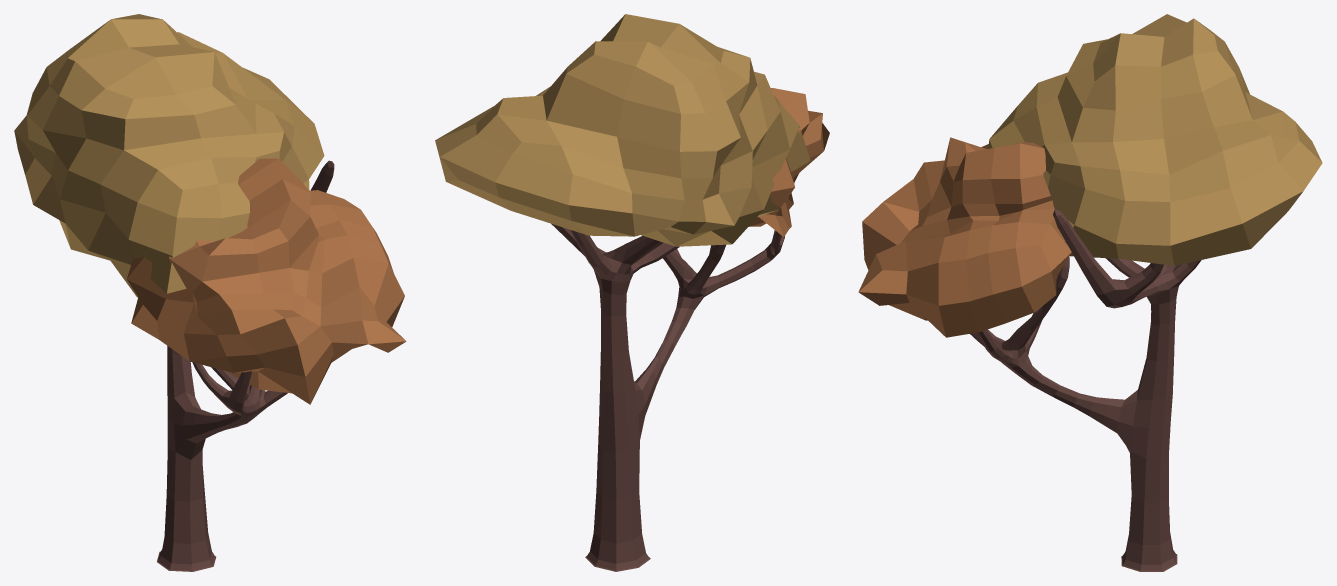
The model's file is autumn-tree.glb.
3 renders of one model, left to right at view 1: azimuth 30°, elevation 25°; view 2: azimuth 150°, elevation 25°; view 3: azimuth 270°, elevation 25°, orthographic. The views are drawn at different scales.
Parts seen in each view (by area): view 1: CommonTree_Autumn_2; view 2: CommonTree_Autumn_2; view 3: CommonTree_Autumn_2.
Boxes of the visible parts, x1,y1,x2,y2 form: CommonTree_Autumn_2: [14, 14, 406, 571]; CommonTree_Autumn_2: [435, 14, 829, 571]; CommonTree_Autumn_2: [858, 14, 1322, 571].
Bounding box in the file's own units: 1.66 × 3.12 × 2.54.
